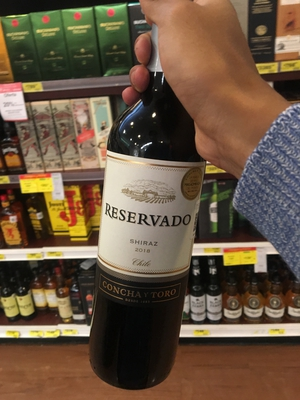reservado shiraz: (84, 39, 224, 399)
